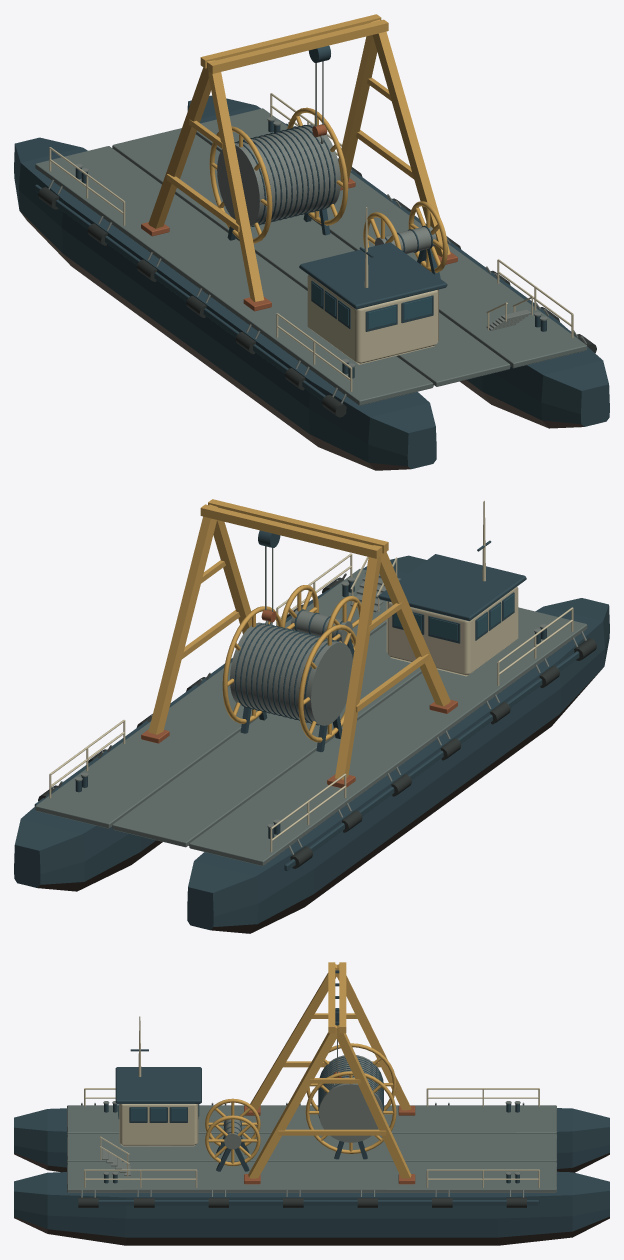
The model's file is line_berth.glb.
3 views of the same model, one above another, from view 1: azimuth 30°, elevation 25°; view 2: azimuth 150°, elevation 25°; view 3: azimuth 270°, elevation 25° (orthographic). The views are drawn at different scales.
Parts seen in each view (by area): view 1: line_berth; view 2: line_berth; view 3: line_berth.
Part boxes in pixels (x1,y1,x2,y2): line_berth: (14, 14, 609, 470); line_berth: (14, 499, 609, 933); line_berth: (14, 962, 609, 1245).
Size of the model in its own units: 12.24 by 12.33 by 32.
